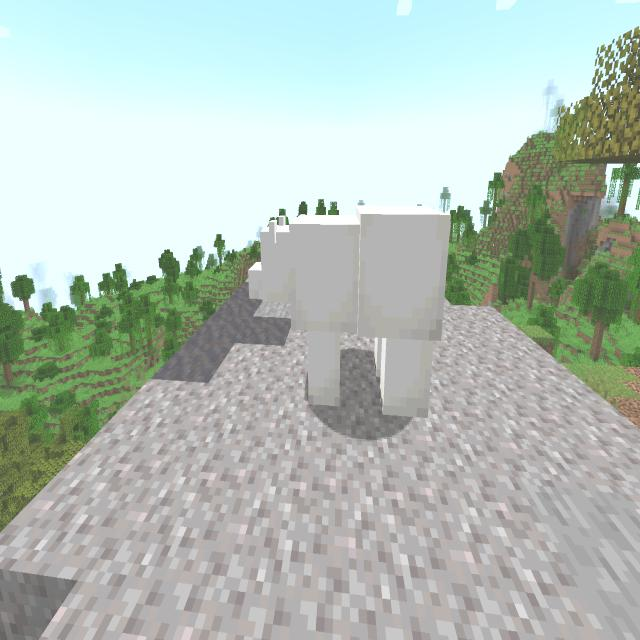Polar Bear: (242, 186, 458, 442)
